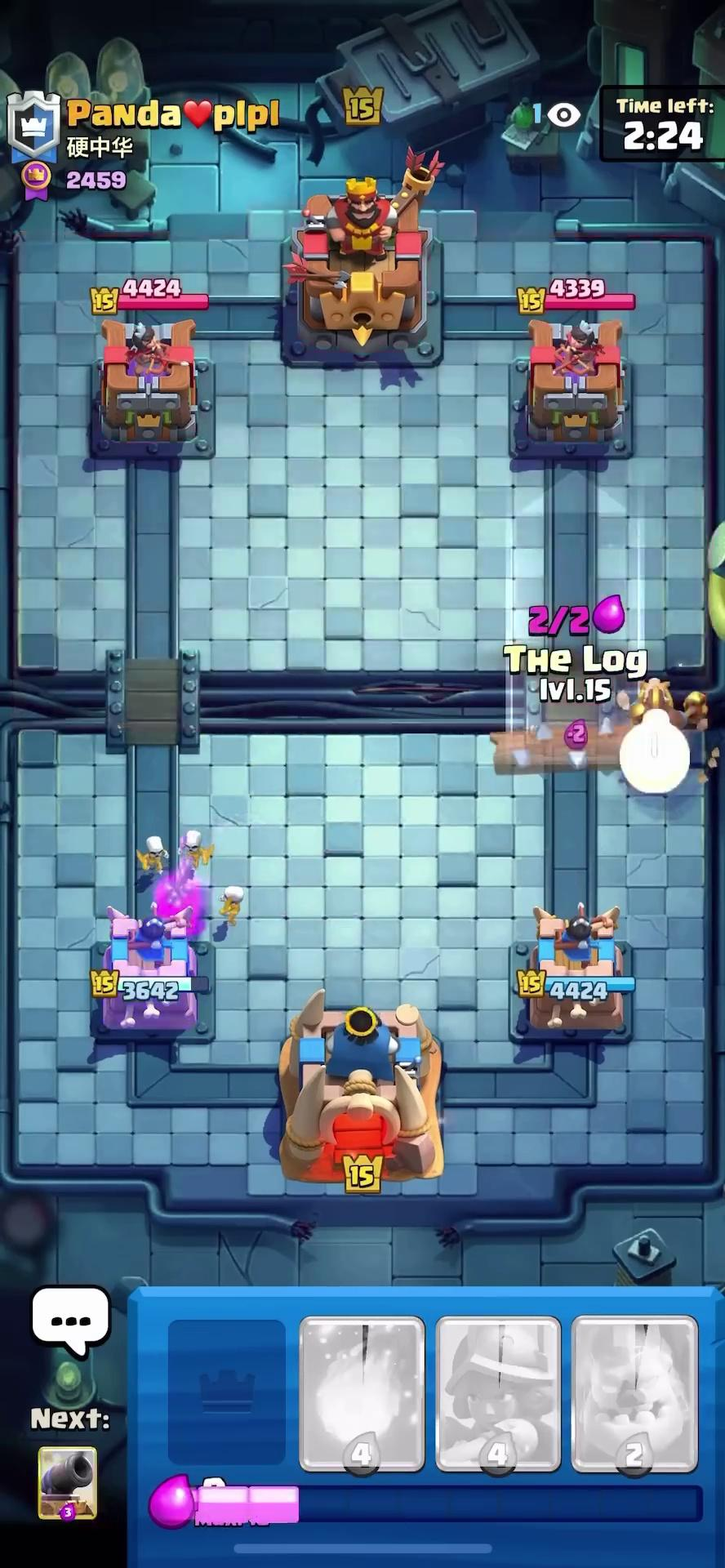hog_rider: (608, 674, 714, 768)
skeletons: (139, 813, 257, 923)
